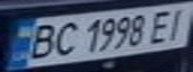1: (81, 16, 103, 54)
8: (127, 11, 151, 48)
9: (112, 12, 136, 51), (97, 15, 118, 52)
B: (21, 20, 60, 61)
C: (48, 19, 81, 57)
E: (145, 7, 178, 45)
I: (160, 4, 193, 42)
